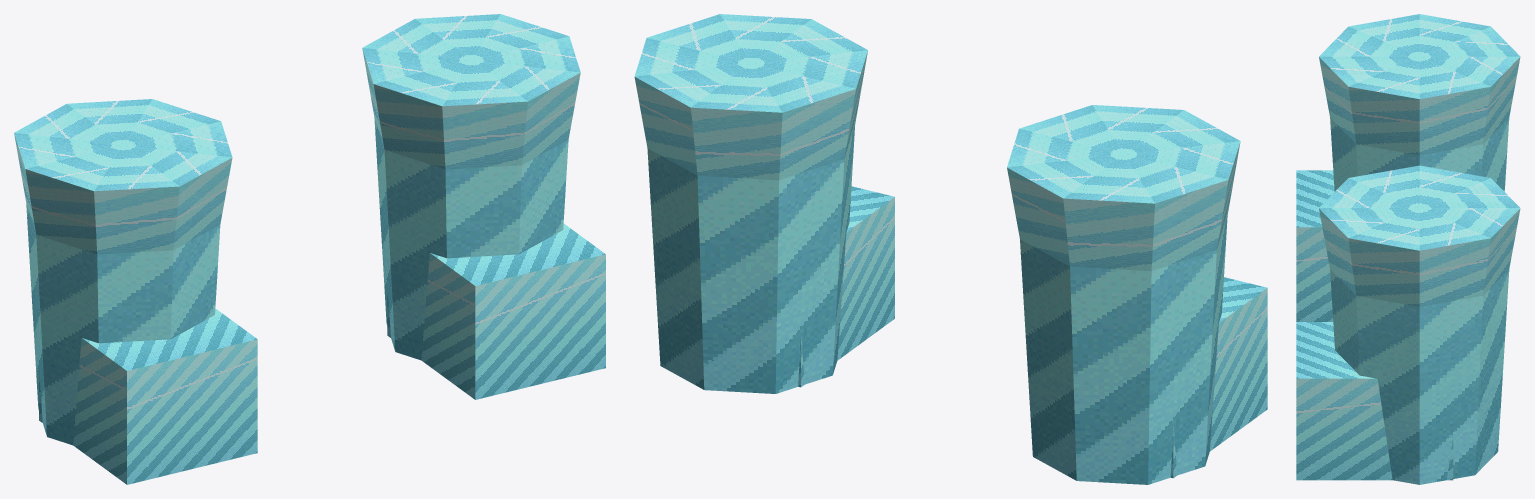
File: luvas_de_diamante.glb
3 renders of one model, left to right at view 1: azimuth 30°, elevation 25°; view 2: azimuth 150°, elevation 25°; view 3: azimuth 270°, elevation 25°, orthographic. The views are drawn at different scales.
Visible parts, largest first — view 1: luvas_de_diamante; view 2: luvas_de_diamante; view 3: luvas_de_diamante.
Part boxes in pixels (x1,y1,x2,y2): luvas_de_diamante: (14,14,605,484); luvas_de_diamante: (634,14,1267,484); luvas_de_diamante: (1296,14,1520,484).
Size of the model in its own units: 0.5 by 0.24 by 0.2.
Materials: 1 (1 with a texture image).
